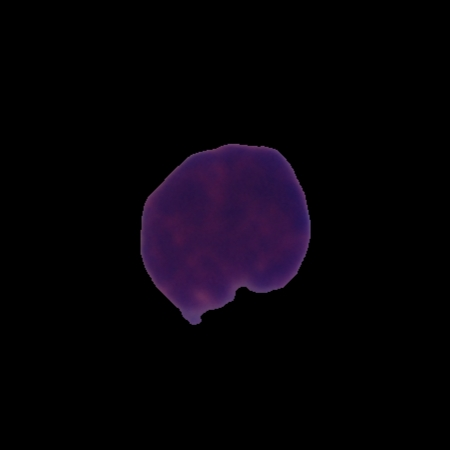ALL: (136, 139, 315, 329)
